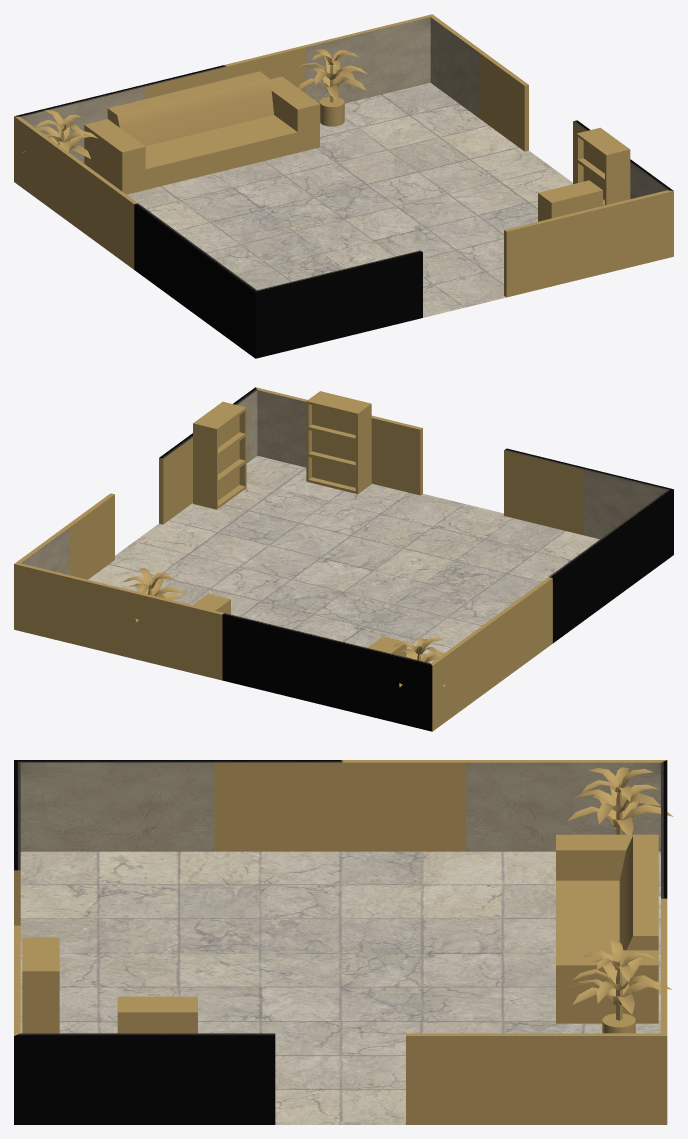
File: Room1x1_2Exits1.fbx
The picture shows the model from 3 angles, top to bottom: view 1: azimuth 30°, elevation 25°; view 2: azimuth 150°, elevation 25°; view 3: azimuth 270°, elevation 25°; orthographic projection. The views are drawn at different scales.
Visible parts, largest first — view 1: Room1x1_2Exits1, Sofa2, BookShelf04, Plant06, BookShelf05, Plant05; view 2: Room1x1_2Exits1, BookShelf05, BookShelf04, Sofa2, Plant06, Plant05; view 3: Room1x1_2Exits1, Sofa2, BookShelf05, Plant06, BookShelf04, Plant05.
Boxes of the visible parts, x1,y1,x2,y2 form: Room1x1_2Exits1: (14,14,673,358); Sofa2: (84,71,319,194); BookShelf04: (576,127,630,205); Plant06: (297,49,367,126); BookShelf05: (538,180,602,221); Plant05: (22,110,97,158); Room1x1_2Exits1: (14,387,673,731); BookShelf05: (306,391,371,494); BookShelf04: (193,401,246,509); Sofa2: (193,594,406,657); Plant06: (122,568,185,622); Plant05: (392,638,445,687); Room1x1_2Exits1: (14,760,667,1124); Sofa2: (556,834,658,1023); BookShelf05: (22,937,59,1033); Plant06: (569,938,672,1033); BookShelf04: (117,996,197,1033); Plant05: (567,767,673,834).
Size of the model in its own units: 10.06 by 1.89 by 10.1.
Materials: 1 (1 with a texture image).
